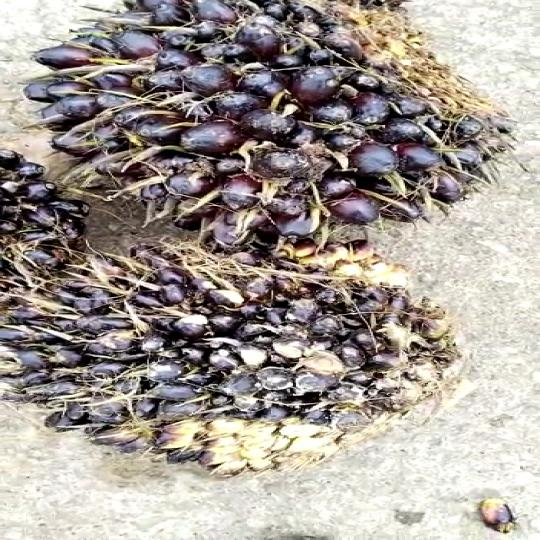mentah: (19, 0, 492, 273), (0, 235, 479, 501)
